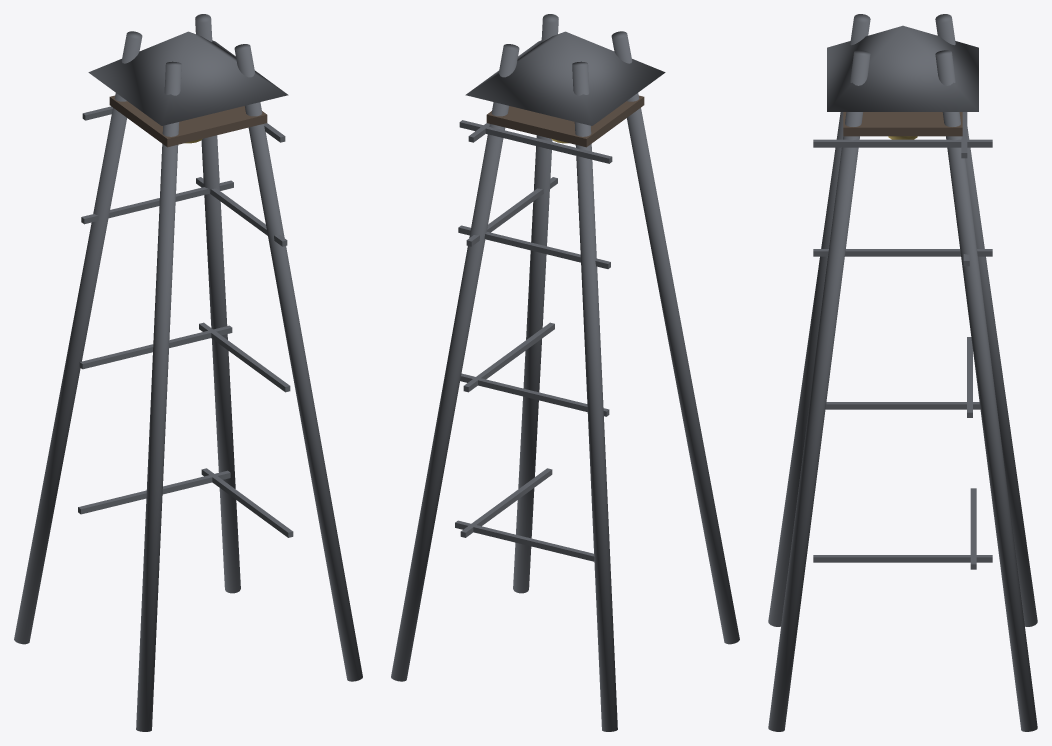
File: prop_yagura.glb
The picture shows the model from 3 angles, left to right: view 1: azimuth 30°, elevation 25°; view 2: azimuth 150°, elevation 25°; view 3: azimuth 270°, elevation 25°; orthographic projection. The views are drawn at different scales.
Visible parts, largest first — view 1: yagura; view 2: yagura; view 3: yagura.
Boxes of the visible parts, bbox=[...] form: yagura: bbox=[14, 14, 362, 731]; yagura: bbox=[391, 14, 739, 731]; yagura: bbox=[768, 14, 1037, 731].
Bounding box in the file's own units: 2.25 × 6.02 × 2.26.
